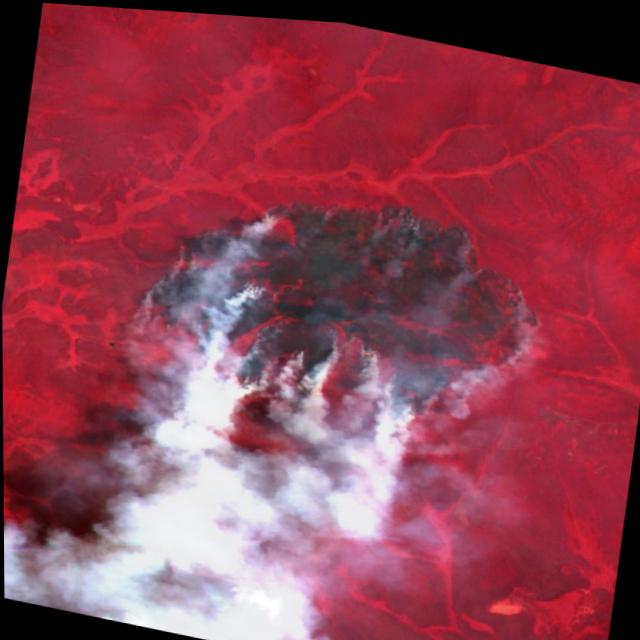fire: (124, 143, 551, 456)
